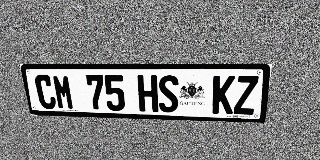5: (104, 75, 126, 111)
7: (84, 75, 107, 111)
C: (34, 75, 57, 109)
H: (137, 75, 158, 112)
K: (212, 75, 235, 114)
M: (52, 75, 75, 110)
S: (158, 75, 179, 113)
Z: (233, 76, 259, 115)
